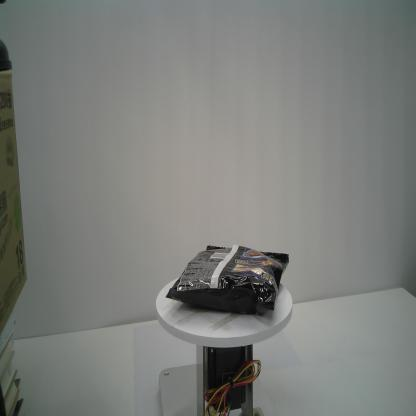Instant Noodles: (166, 244, 289, 314)
